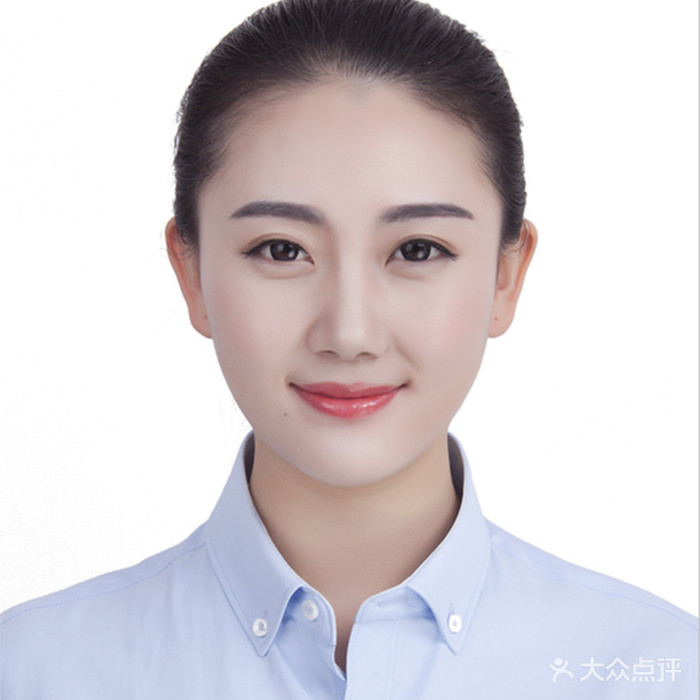unmask: (206, 107, 495, 479)
